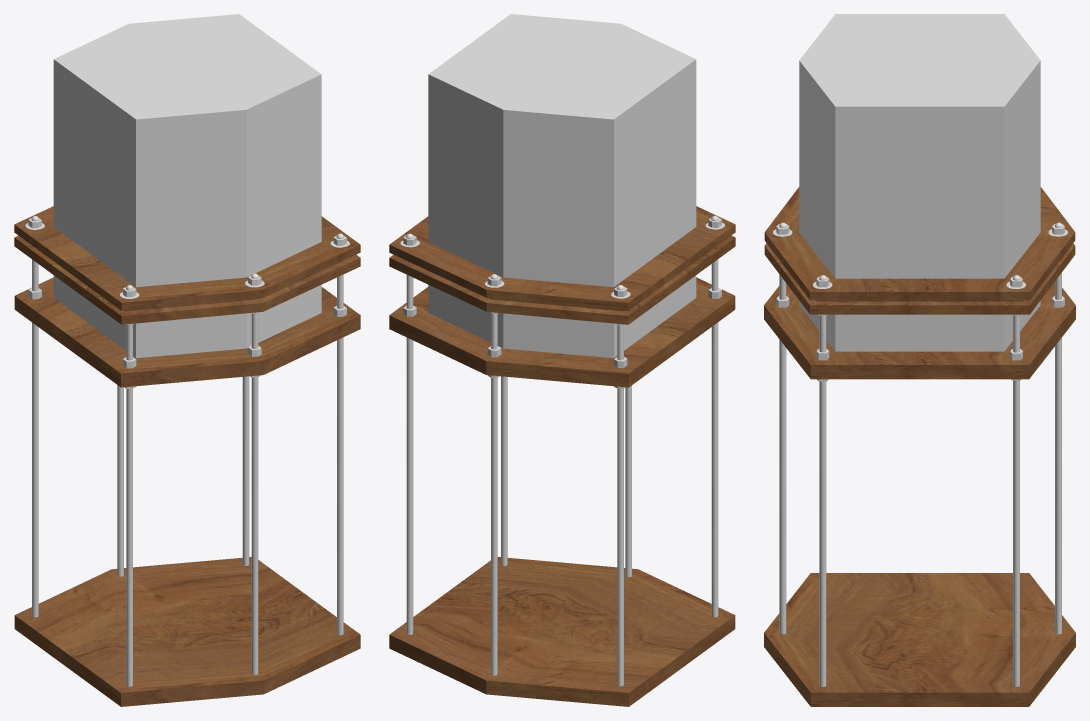
The model's file is exagono_ramitas003.fbx.
The picture shows the model from 3 angles, left to right: view 1: azimuth 30°, elevation 25°; view 2: azimuth 150°, elevation 25°; view 3: azimuth 270°, elevation 25°; orthographic projection. The views are drawn at different scales.
Visible parts, largest first — view 1: Exagono, Cube, BaseSuperior, Base, palo.005, palo.002, palo, palo.003, palo.001, palo.004; view 2: Exagono, Cube, BaseSuperior, Base, palo.001, palo.002, palo.003, palo.004, palo.005, palo; view 3: Exagono, Cube, BaseSuperior, Base, palo, palo.005, palo.001, palo.004.
Part boxes in pixels (left/top/right/bottom): Exagono: left=53, top=14, right=321, bottom=358; Cube: left=14, top=557, right=360, bottom=706; BaseSuperior: left=14, top=206, right=360, bottom=324; Base: left=14, top=277, right=360, bottom=387; palo.005: left=251, top=313, right=258, bottom=674; palo.002: left=126, top=325, right=132, bottom=686; palo: left=337, top=274, right=343, bottom=635; palo.003: left=32, top=259, right=38, bottom=617; palo.001: left=242, top=376, right=249, bottom=565; palo.004: left=117, top=385, right=123, bottom=576; Exagono: left=428, top=14, right=696, bottom=358; Cube: left=389, top=557, right=735, bottom=706; BaseSuperior: left=389, top=206, right=735, bottom=324; Base: left=389, top=277, right=735, bottom=387; palo.001: left=406, top=275, right=413, bottom=634; palo.002: left=711, top=259, right=718, bottom=617; palo.003: left=617, top=324, right=623, bottom=686; palo.004: left=491, top=313, right=497, bottom=675; palo.005: left=625, top=385, right=631, bottom=577; palo: left=501, top=376, right=507, bottom=565; Exagono: left=799, top=14, right=1040, bottom=351; Cube: left=764, top=573, right=1075, bottom=706; BaseSuperior: left=764, top=187, right=1075, bottom=314; Base: left=764, top=282, right=1075, bottom=379; palo: left=819, top=315, right=826, bottom=686; palo.005: left=779, top=274, right=786, bottom=634; palo.001: left=1013, top=315, right=1019, bottom=686; palo.004: left=1055, top=273, right=1061, bottom=634.
Size of the model in its own units: 760 by 1734 by 836.
